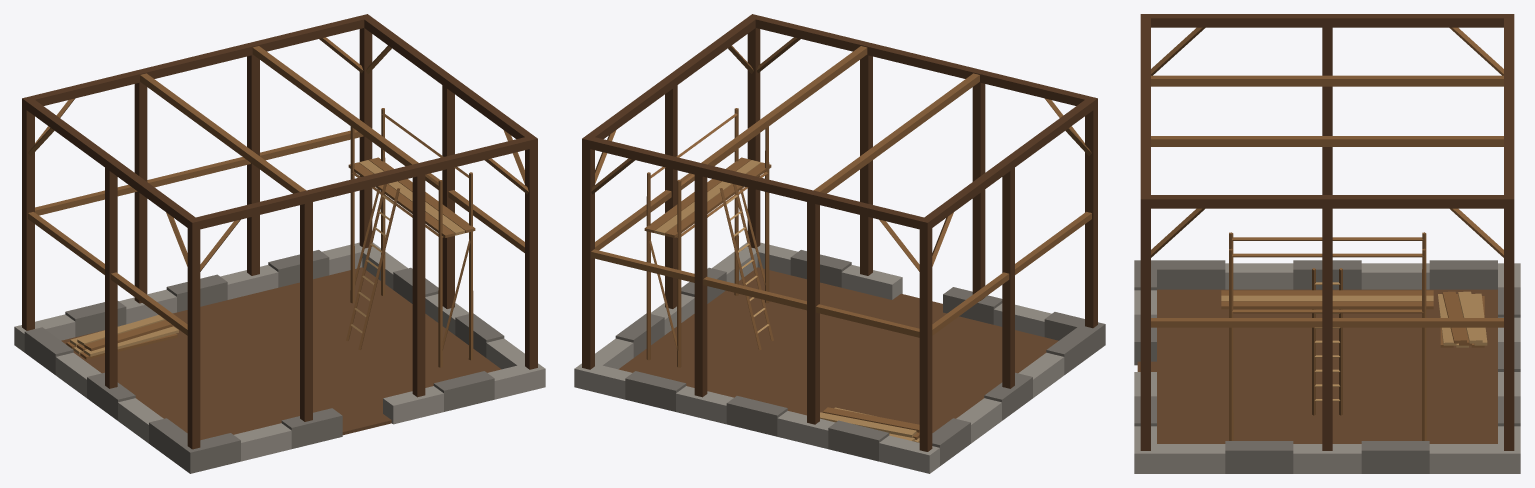
File: site_7x6_2.glb
3 views of the same model, side by side, from view 1: azimuth 30°, elevation 25°; view 2: azimuth 150°, elevation 25°; view 3: azimuth 270°, elevation 25° (orthographic). The views are drawn at different scales.
Visible parts, largest first — view 1: site_7x6_2; view 2: site_7x6_2; view 3: site_7x6_2.
Part boxes in pixels (bbox=[...]): site_7x6_2: bbox=[14, 14, 545, 473]; site_7x6_2: bbox=[574, 14, 1105, 473]; site_7x6_2: bbox=[1134, 14, 1520, 473].
Bounding box in the file's own units: 7 × 4.67 × 6.
